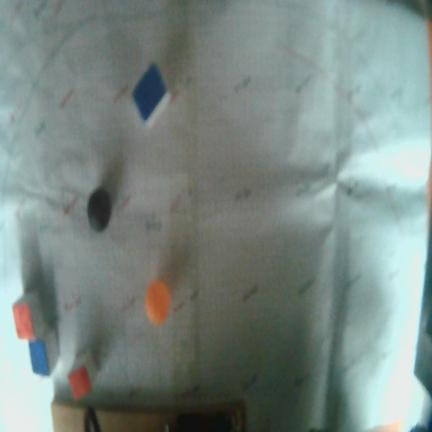circle_blue: (87, 188, 111, 232)
circle_orange: (144, 280, 171, 325)
rectangle_blue: (133, 64, 166, 121)
rectangle_orange: (66, 364, 91, 404)
square_blue: (29, 339, 51, 377)
square_orange: (12, 302, 36, 338)
